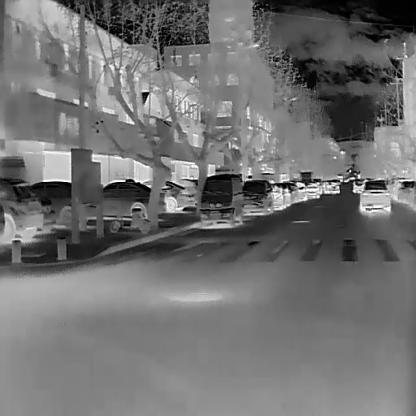car: (27, 179, 102, 231), (0, 175, 42, 243), (98, 181, 164, 221), (200, 171, 243, 226), (140, 181, 195, 212), (241, 177, 273, 216), (360, 178, 392, 213), (272, 182, 283, 211), (280, 182, 291, 206), (307, 180, 320, 199), (352, 177, 365, 193), (325, 180, 340, 193)
